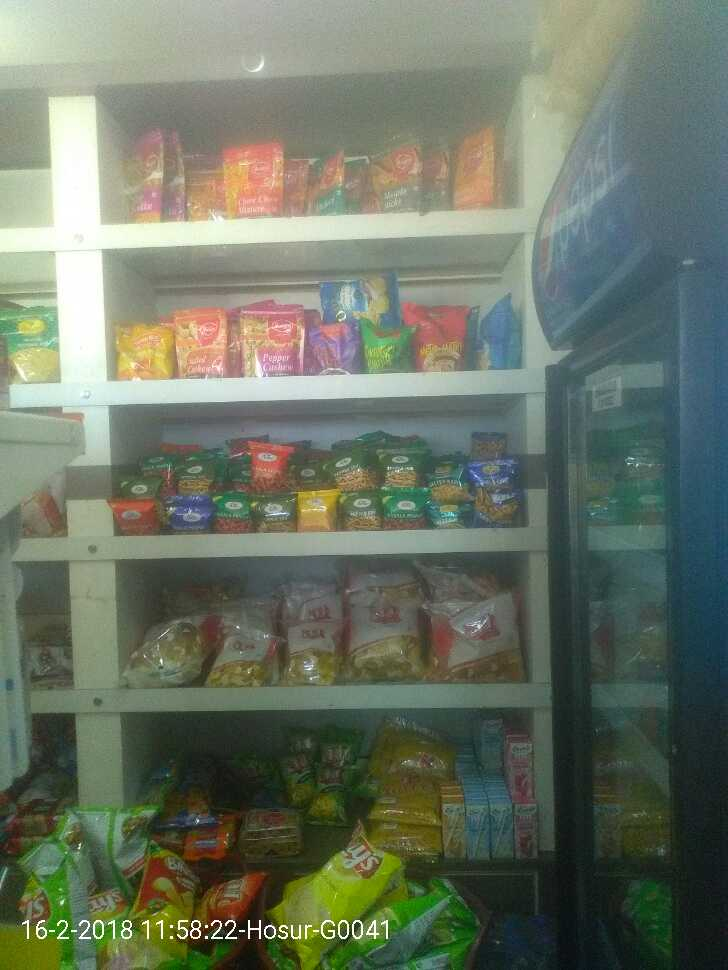reject: (420, 388, 498, 478)
